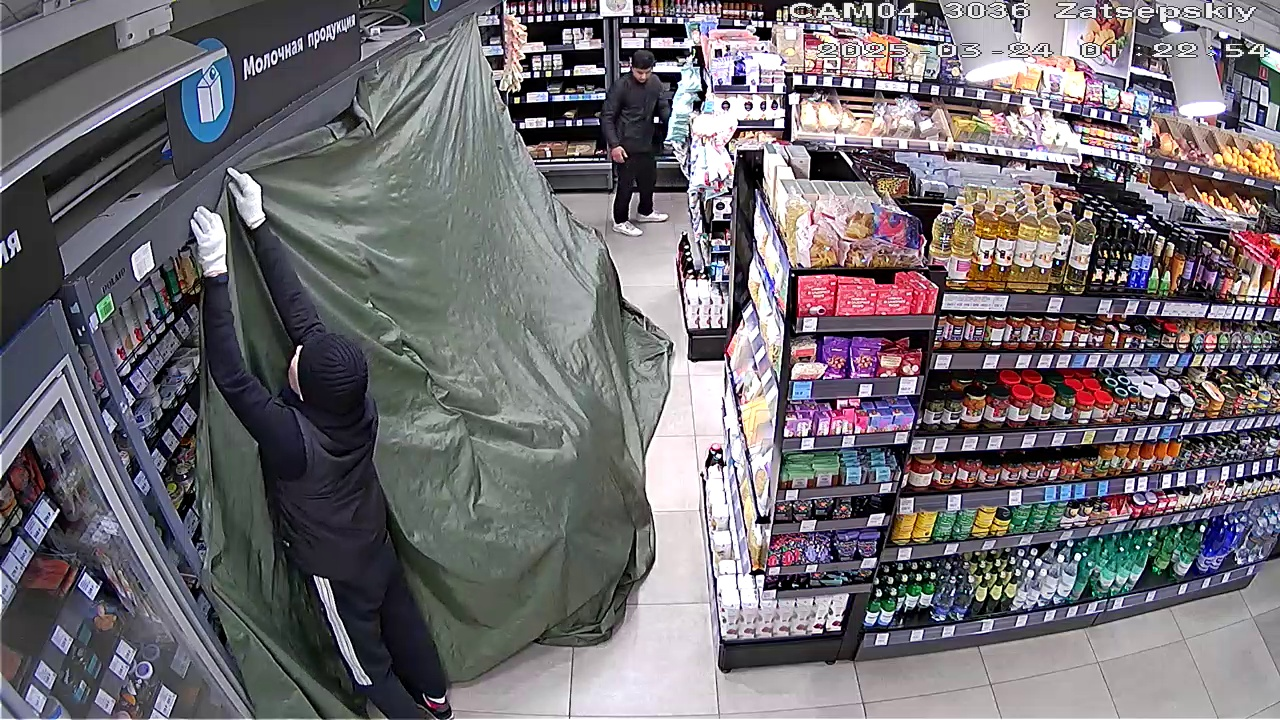Human: (192, 164, 459, 717), (603, 43, 688, 239)
dome: (188, 20, 675, 719)
